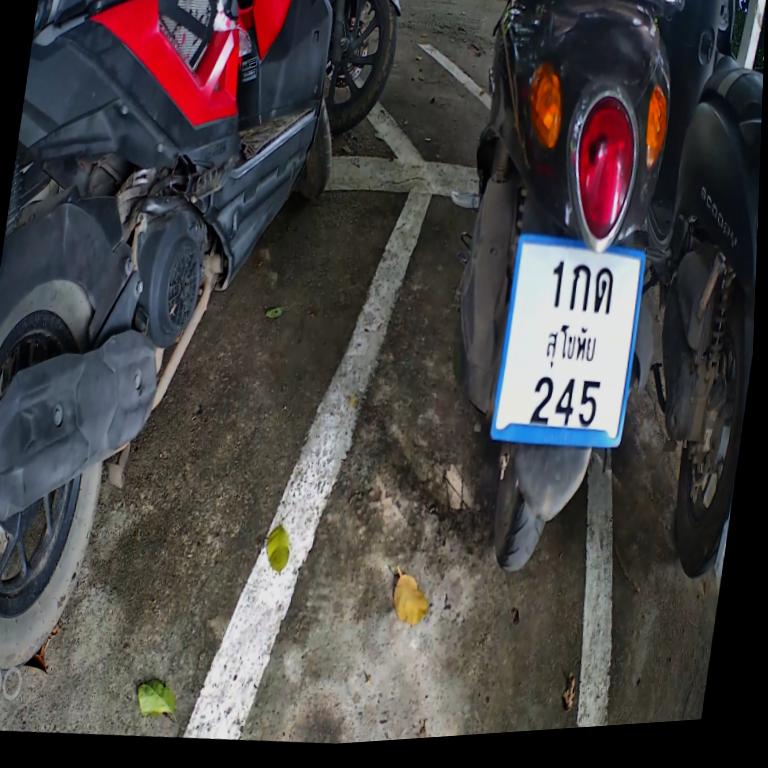license plate: (480, 209, 663, 475)
